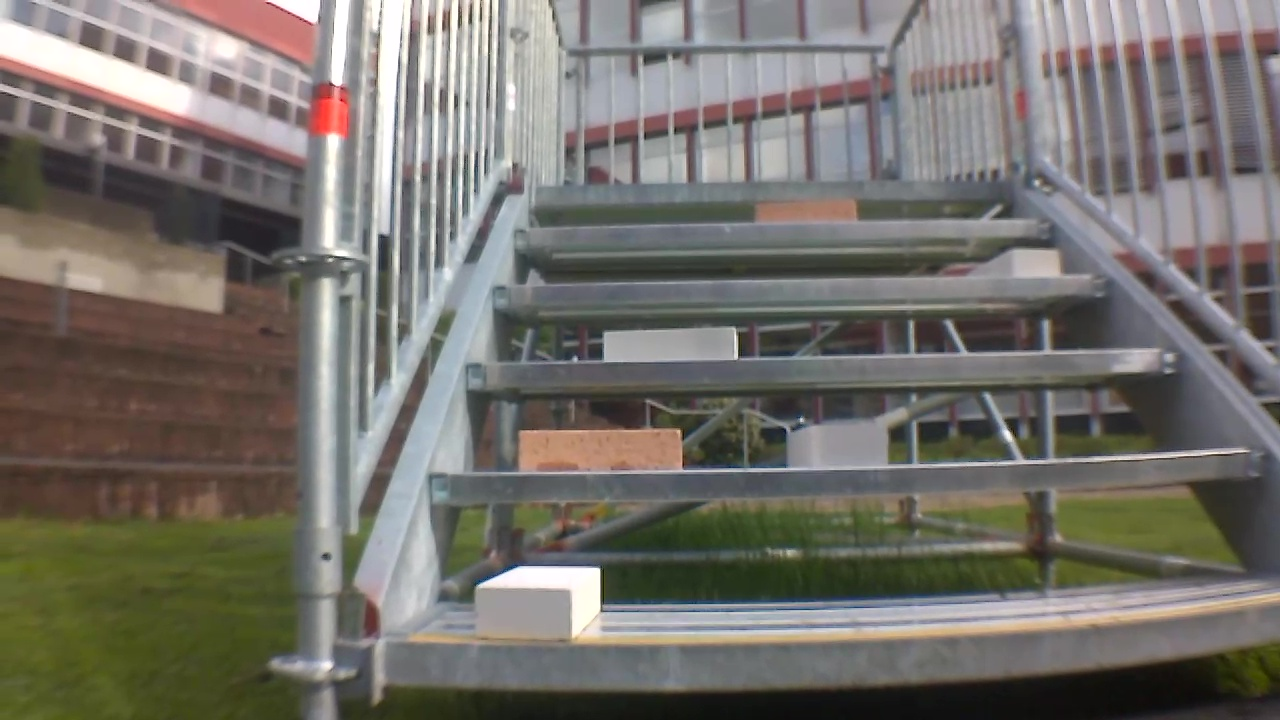brick: (470, 566, 606, 636), (516, 425, 687, 471), (777, 423, 892, 471), (599, 321, 737, 361), (966, 246, 1069, 283), (752, 198, 861, 224)
edge: (385, 608, 1280, 691), (429, 450, 1263, 504), (458, 346, 1188, 396), (482, 280, 1110, 311), (514, 219, 1064, 251), (535, 182, 1015, 204)
steps: (370, 179, 1280, 701)
